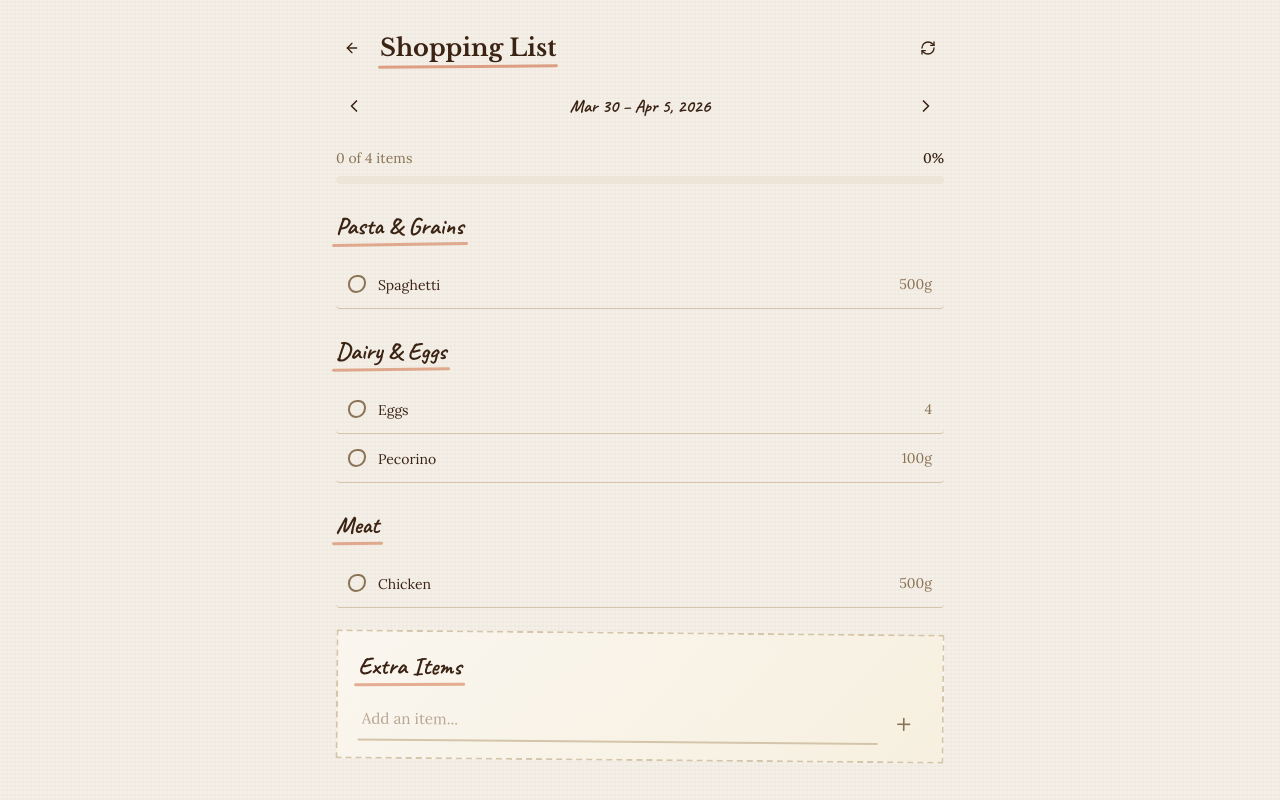
Test: Shopping List › S3: refresh button shows loading state and explains regeneration
This screenshot has width=1280, height=800.
Expected: the text "Spaghetti" is shown, [378, 276, 440, 294]
Click the button titled "Refresh" at {"x": 928, "y": 48}, box [912, 32, 944, 64]
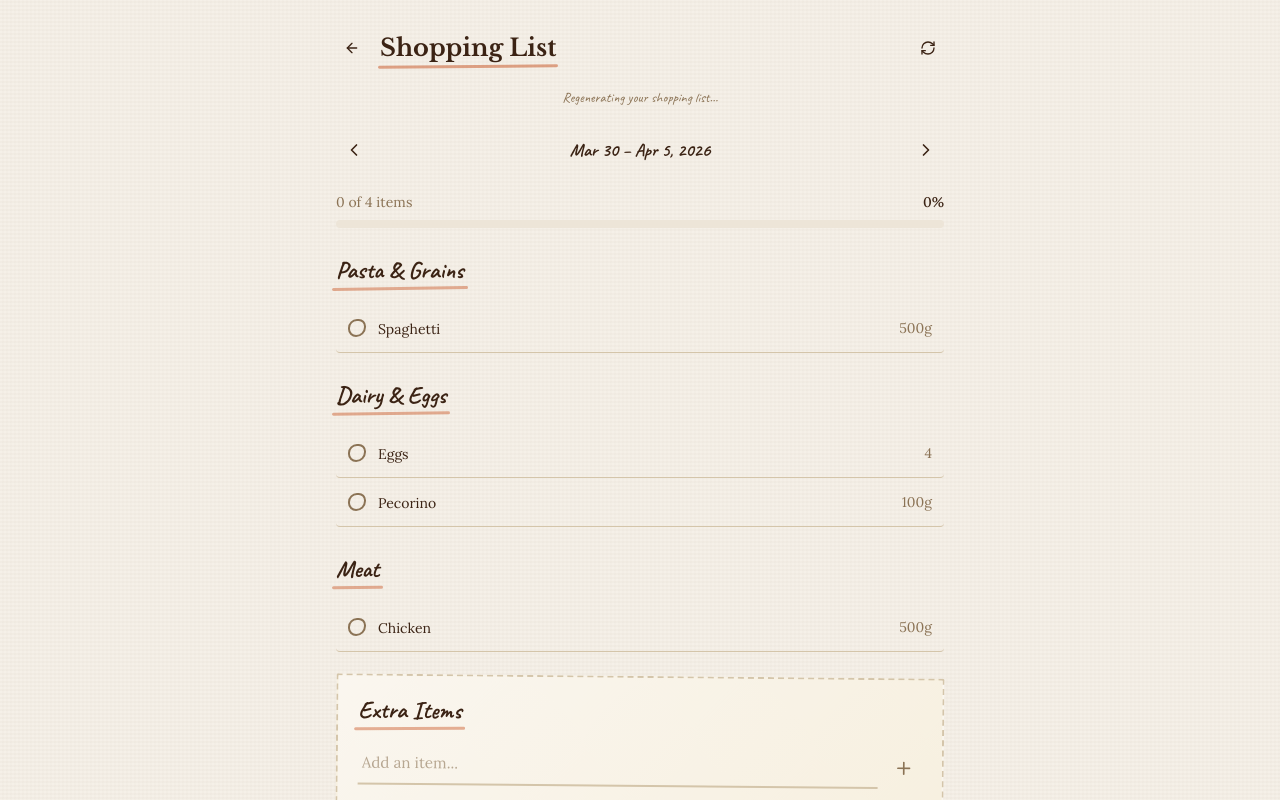
Expected: the text "Regenerating your shopping list..." is shown, [562, 89, 718, 106]
